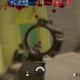Character: (32, 41, 42, 53)
Head: (38, 41, 42, 45)
